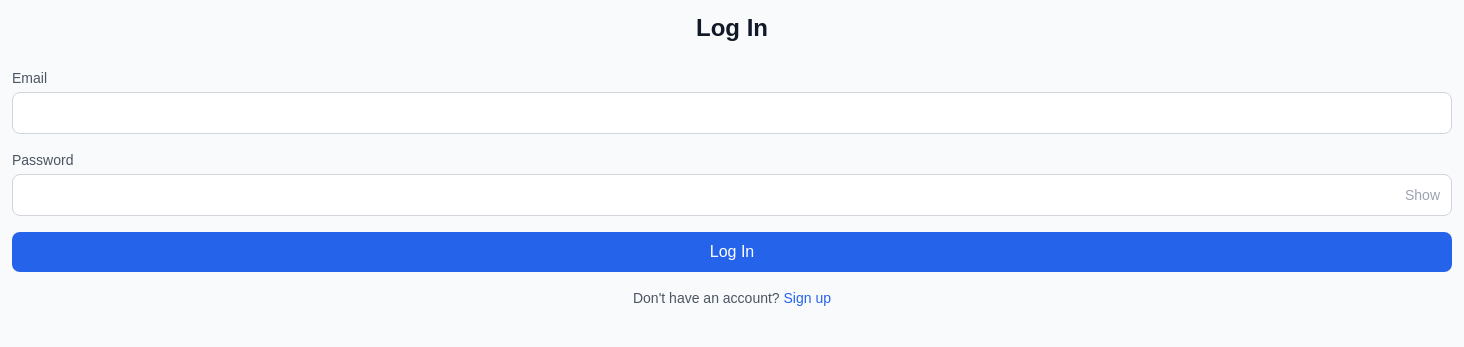
Login page › explains the problem and sends nothing for an empty password
Type "claimant@demo.com" into the field labelled "Email" at (732, 113), box x1=12 y1=92 x2=1452 y2=134
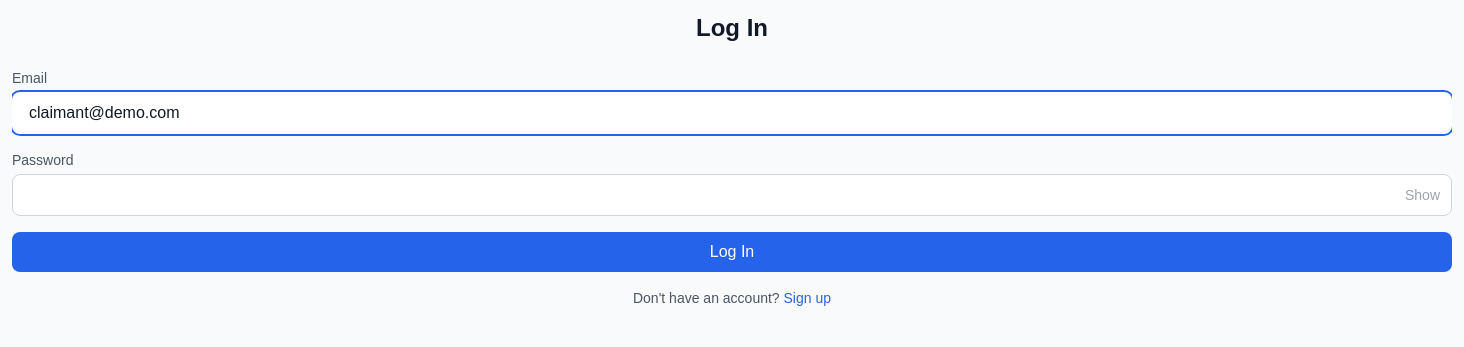
Click the button "Log In" at (732, 252), box x1=12 y1=232 x2=1452 y2=272
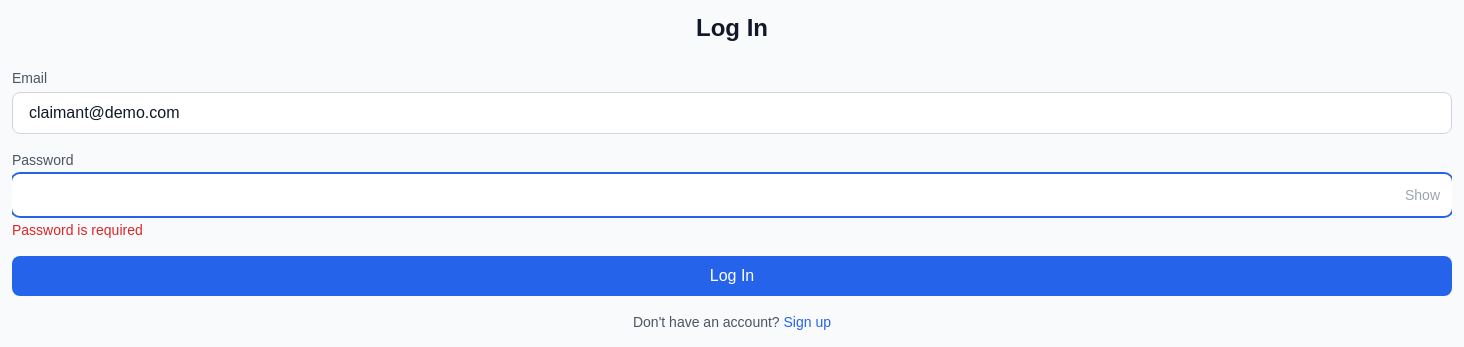
Check: the message reads "Password is required", box x1=12 y1=222 x2=143 y2=238
